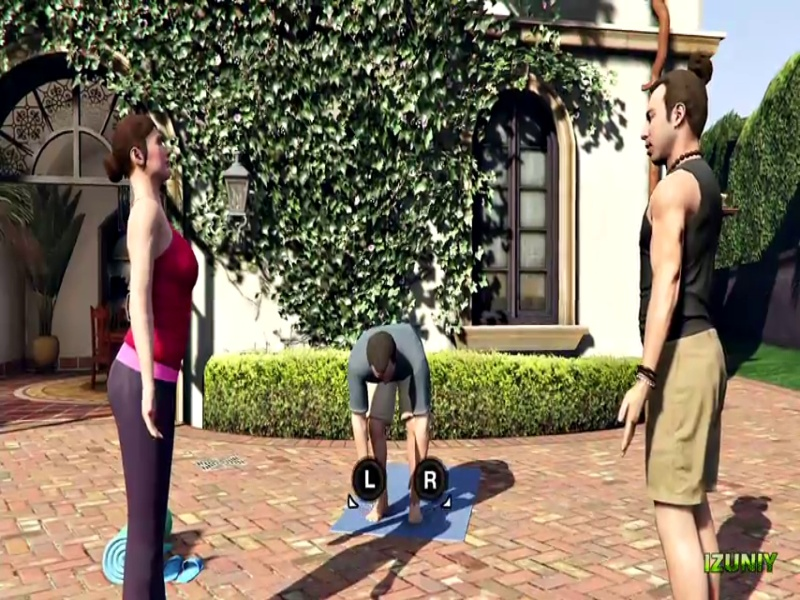licenseplate: (197, 100, 600, 113)
